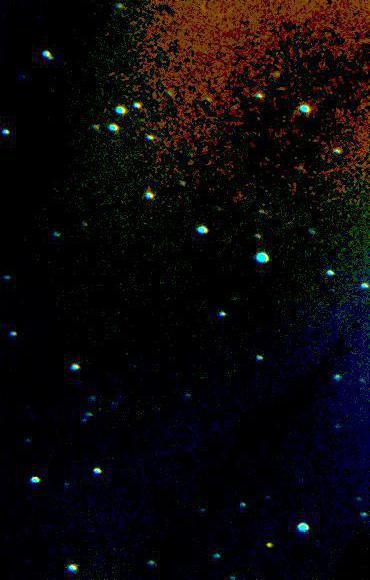star: (253, 530, 283, 560)
